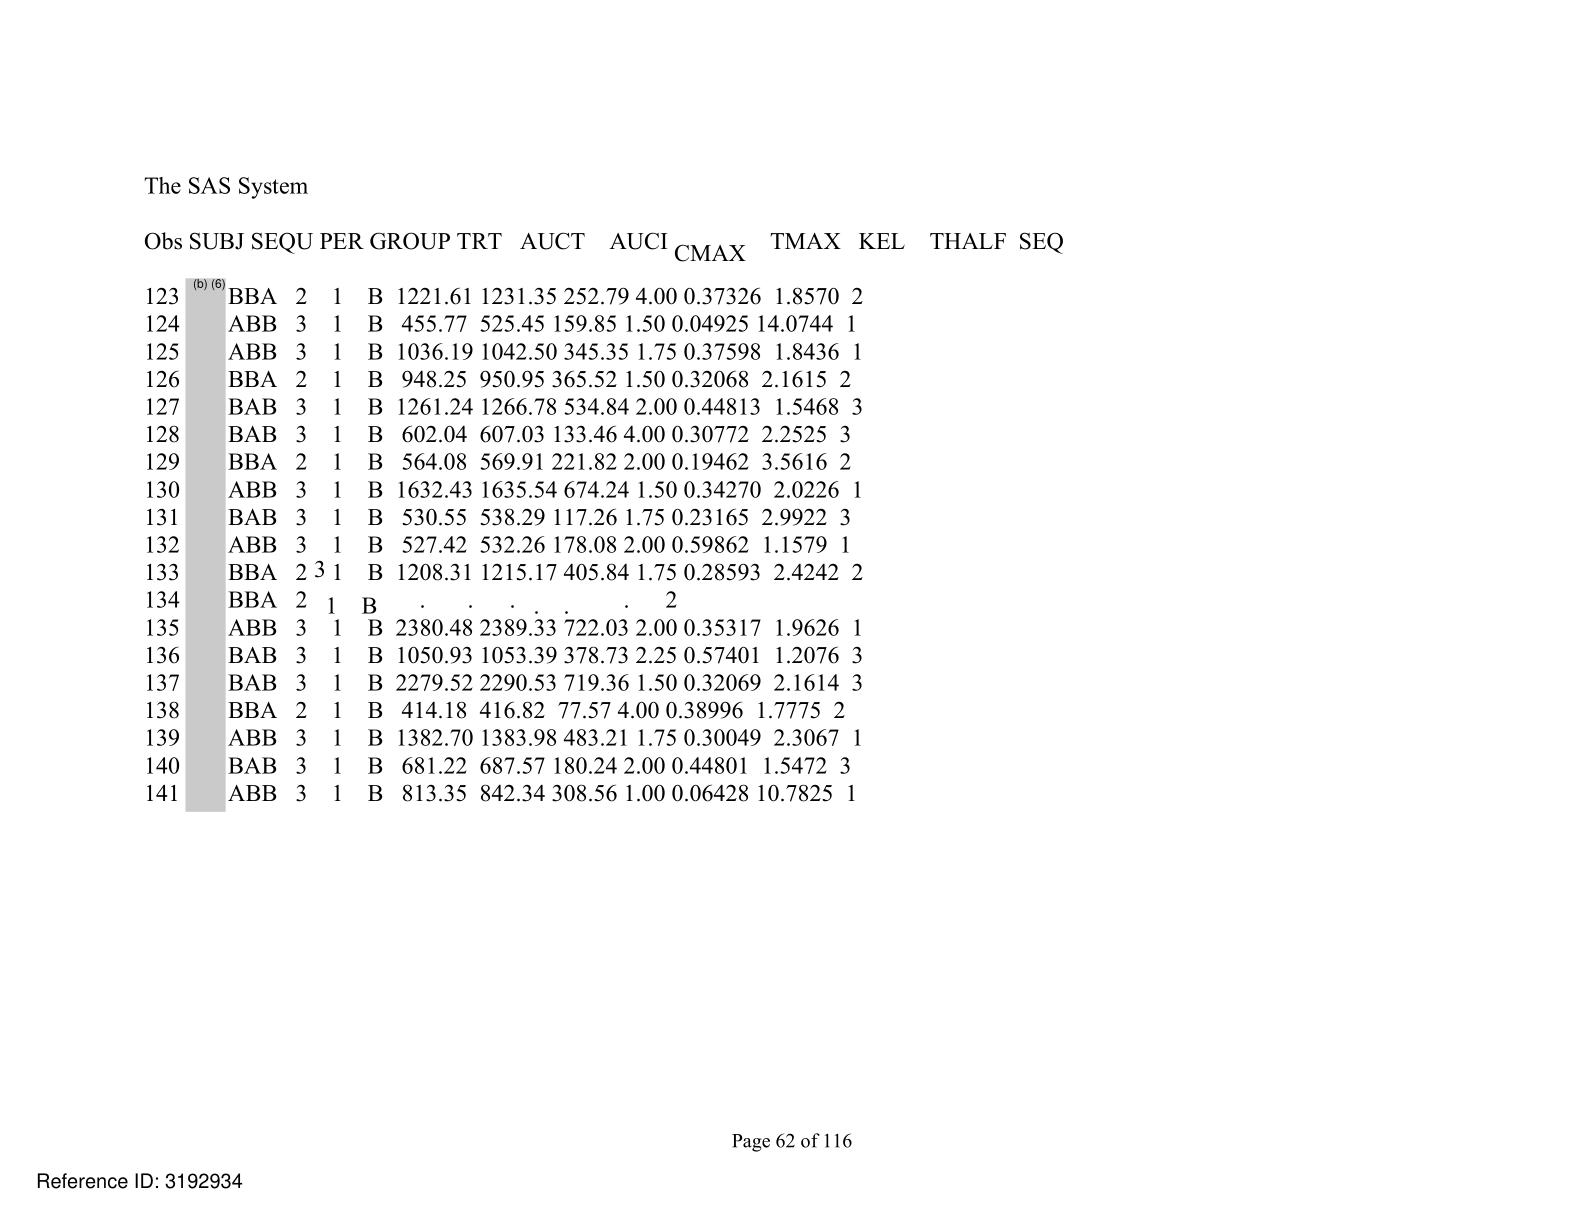nolines: (141, 228, 1067, 811)
